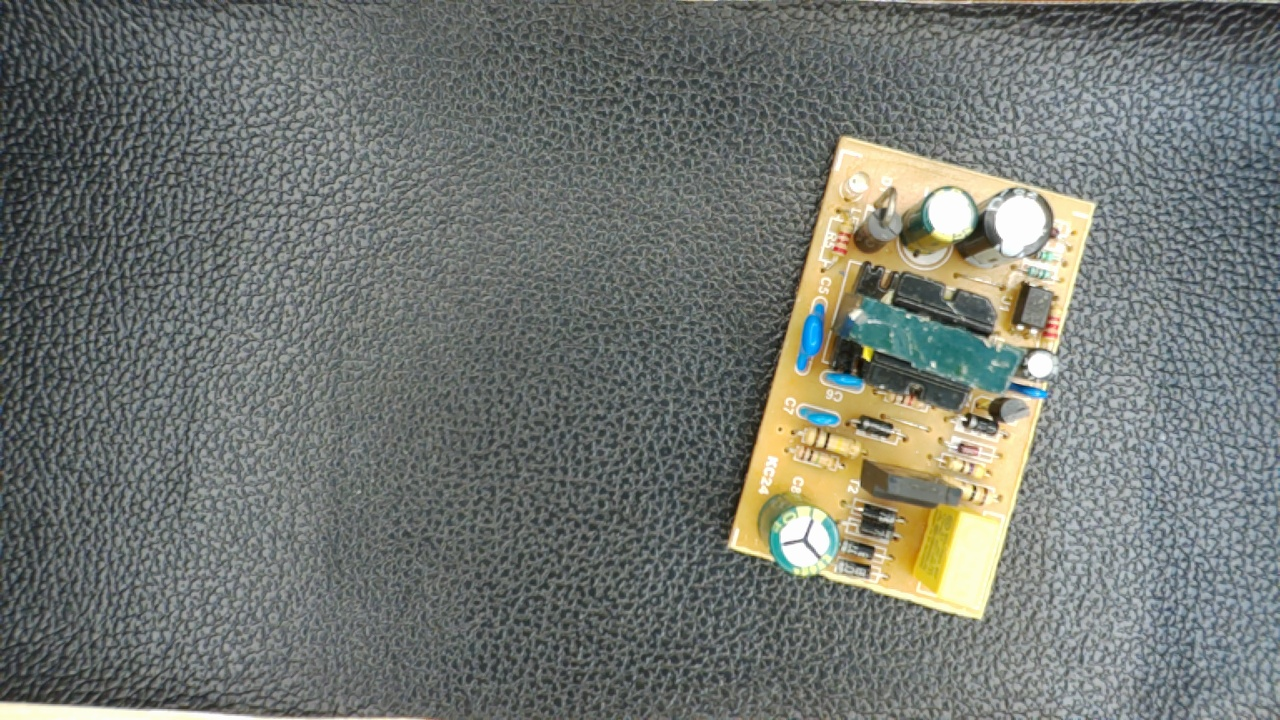hv_capacitor: (756, 491, 842, 578)
mov: (792, 294, 830, 372)
optocoupler: (1011, 278, 1055, 338)
